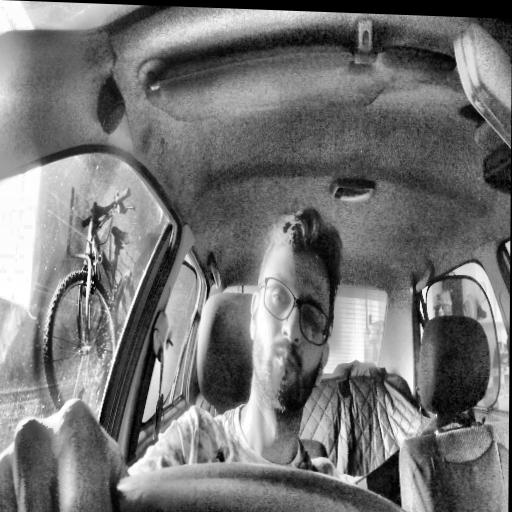awake: (247, 205, 341, 426)
